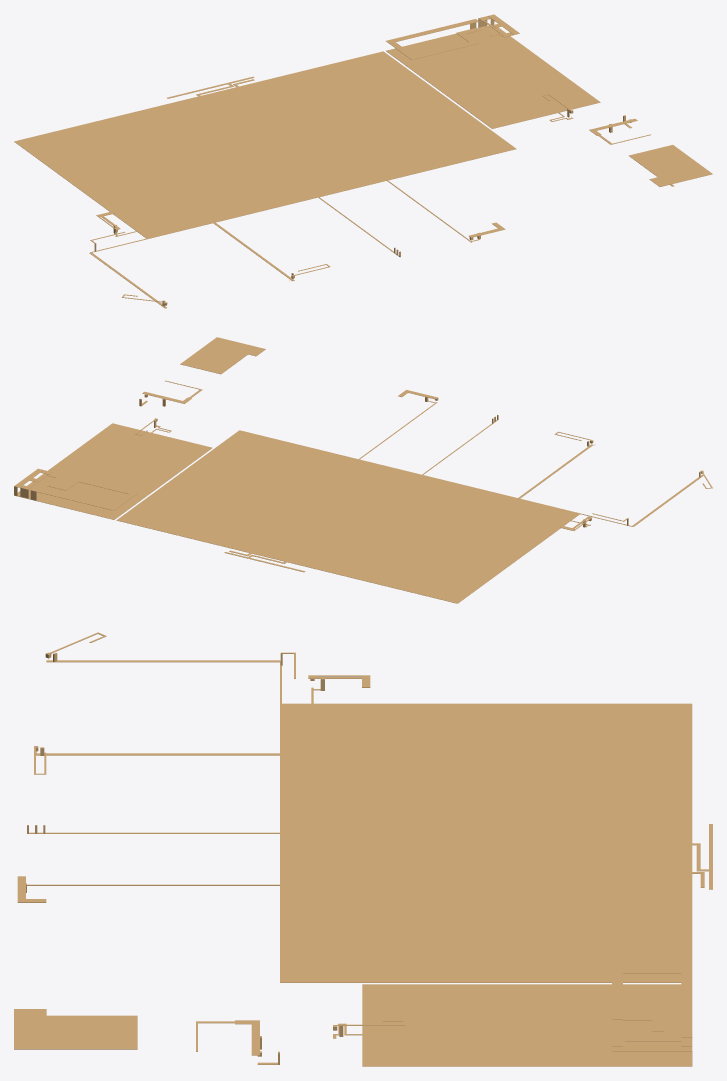
3 renders of one model, top to bottom at view 1: azimuth 30°, elevation 25°; view 2: azimuth 150°, elevation 25°; view 3: azimuth 270°, elevation 25°, orthographic. The views are drawn at different scales.
Parts seen in each view (by area): view 1: processed; view 2: processed; view 3: processed.
Part boxes in pixels (bbox=[...]): processed: bbox=[14, 14, 712, 308]; processed: bbox=[14, 337, 712, 603]; processed: bbox=[14, 632, 712, 1066].
Size of the model in its own units: 0.245 by 0.00461 by 0.1695.
